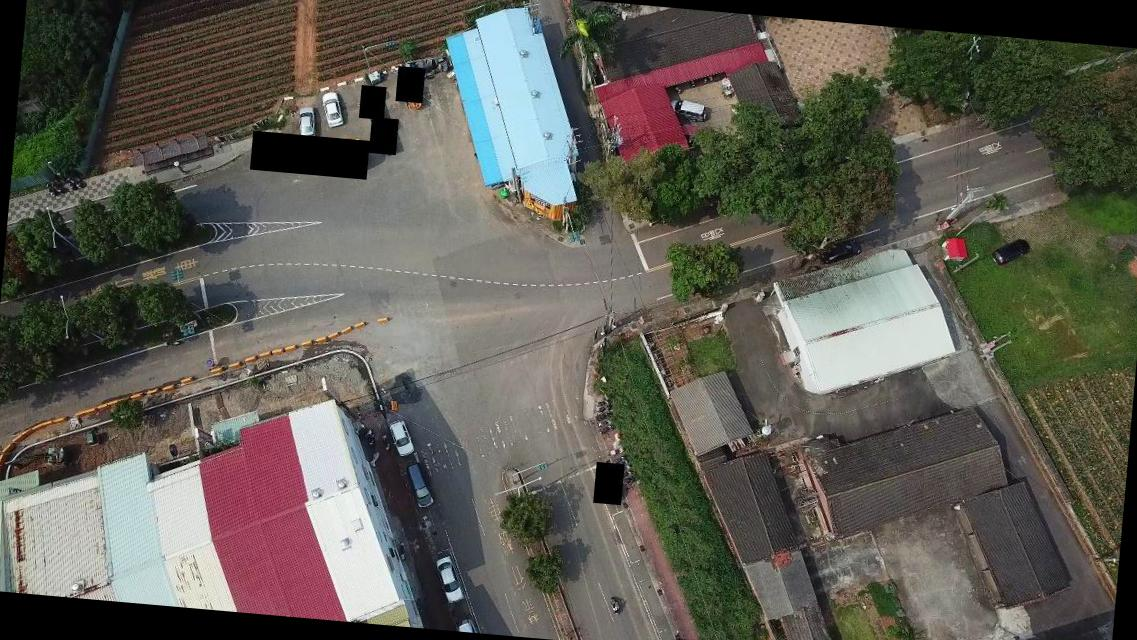vehicle: (402, 460, 437, 509), (431, 554, 465, 604), (988, 236, 1032, 268), (386, 418, 415, 458), (666, 98, 706, 123), (318, 92, 344, 128), (294, 104, 317, 140)
